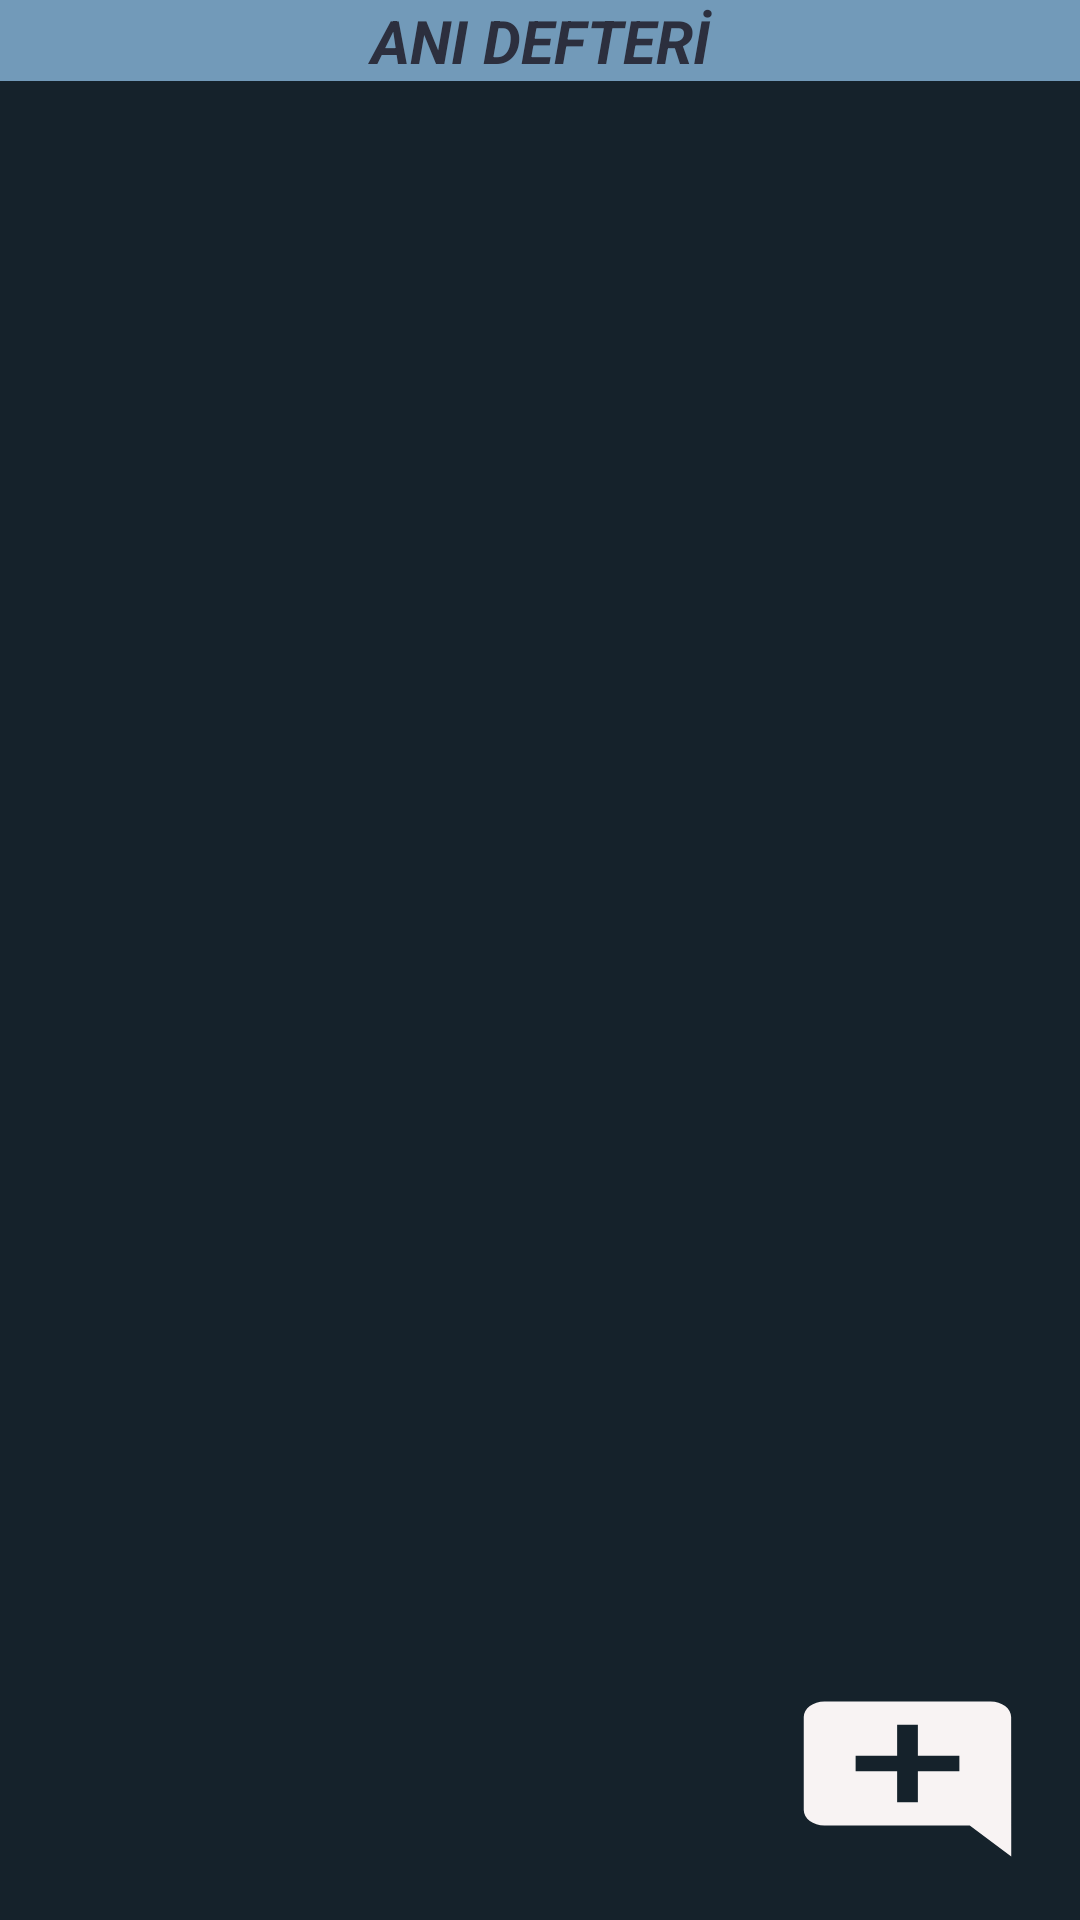

Point at icon controls on the screen. Image size 1080px x 1920px, points as [x,y].
add comment: [907,1779]
